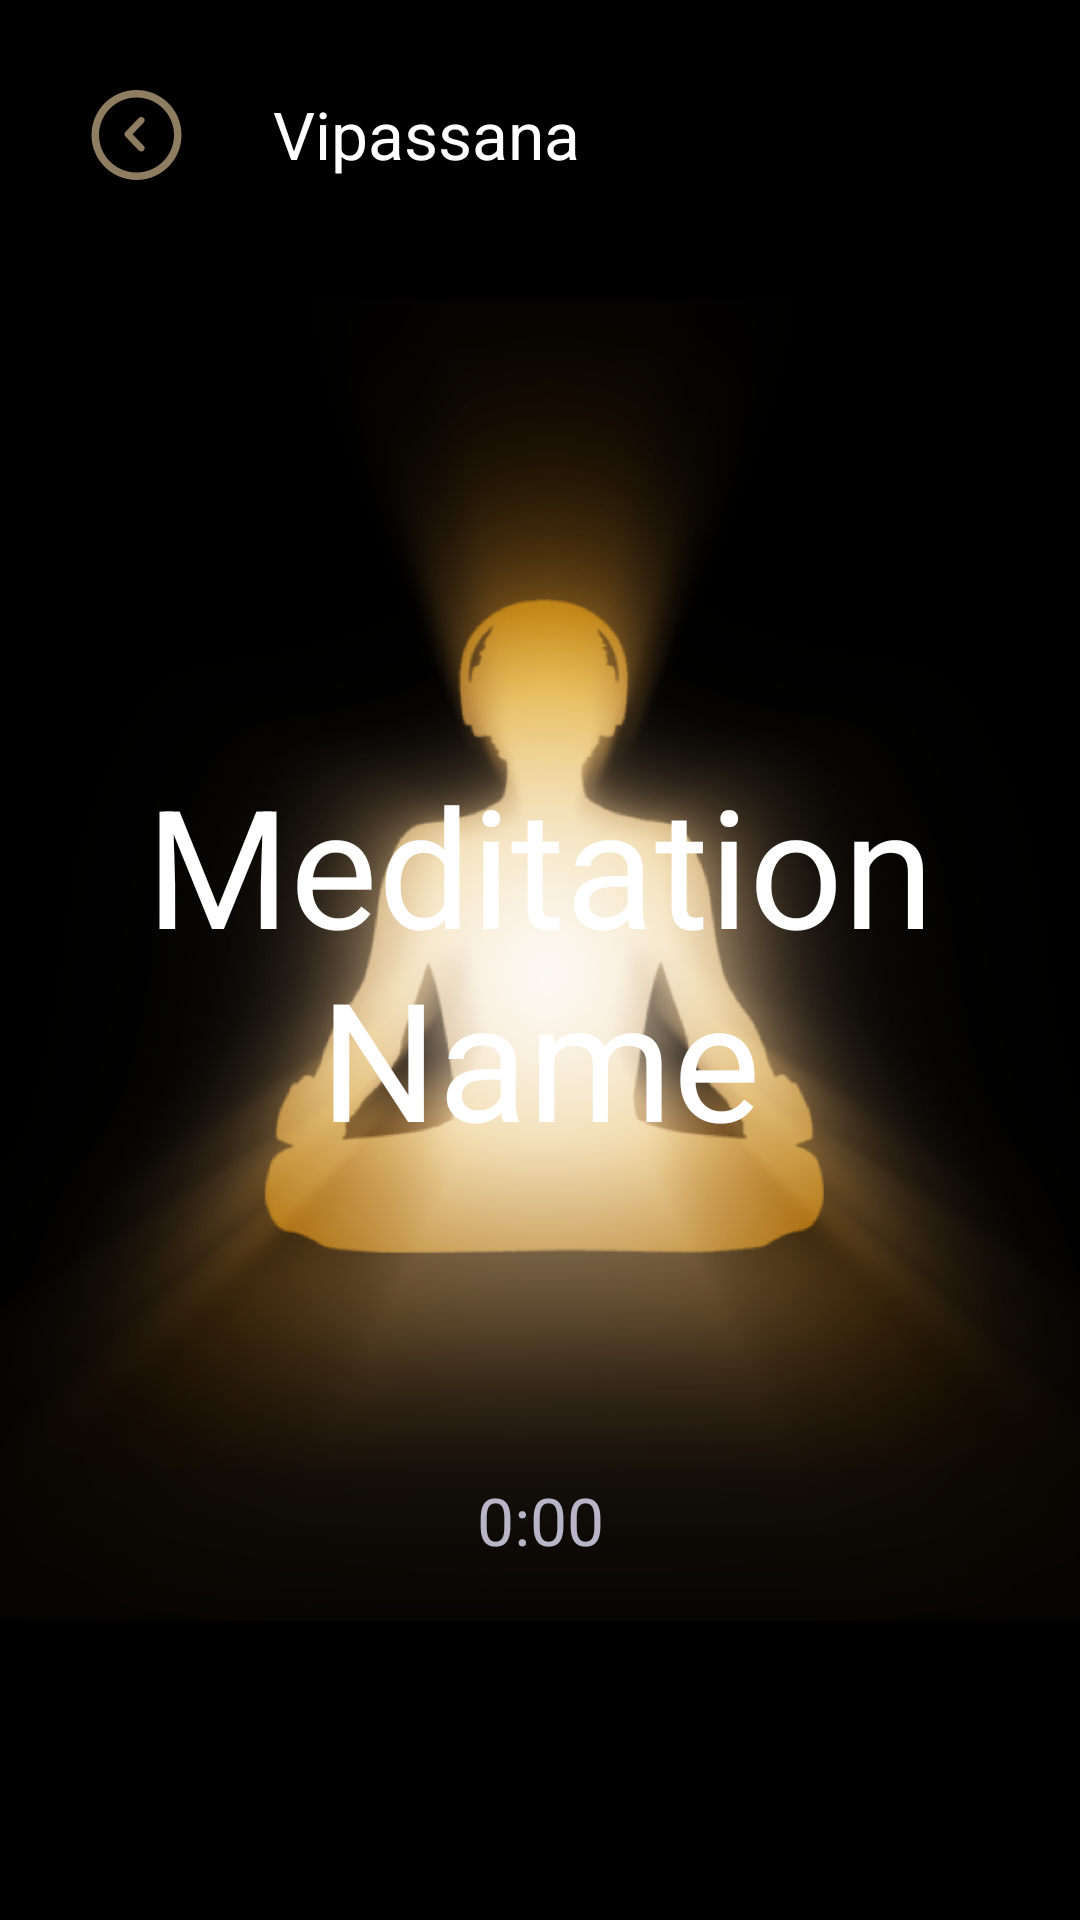

Icons on this 1080px×1920px Android screen, each with its box as [x1, y1, x2, y2]:
back: [91, 90, 182, 180]
